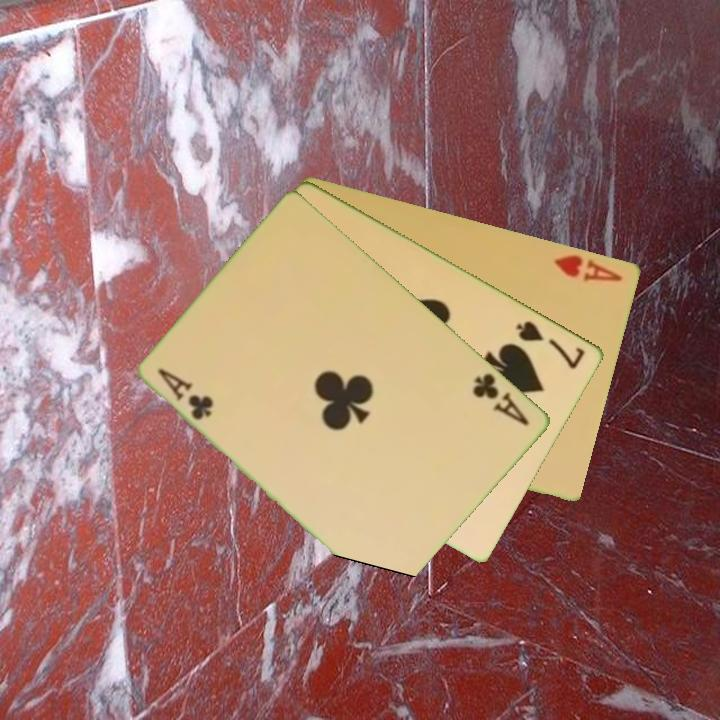7s: (513, 316, 589, 372)
Ac: (469, 369, 533, 429), (154, 364, 217, 423)
Ah: (551, 251, 626, 285)
